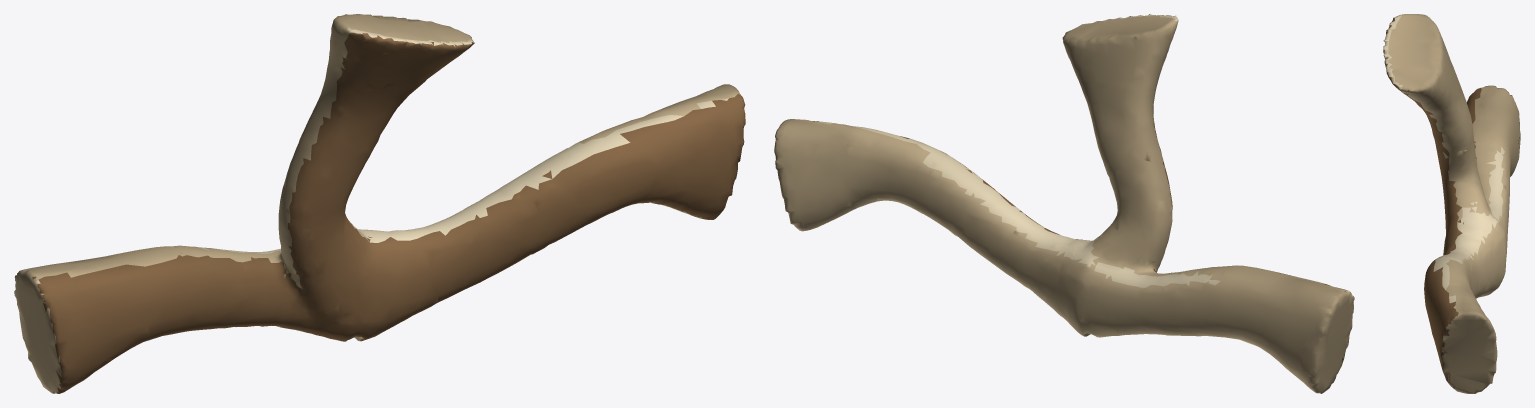
The model's file is cortical-web.glb.
3 views of the same model, side by side, from view 1: azimuth 30°, elevation 25°; view 2: azimuth 150°, elevation 25°; view 3: azimuth 270°, elevation 25° (orthographic). The views are drawn at different scales.
Visible parts, largest first — view 1: cortical_web__fused_unequal_cortical_plates; view 2: cortical_web__fused_unequal_cortical_plates; view 3: cortical_web__fused_unequal_cortical_plates.
Part boxes in pixels (x1,y1,x2,y2): cortical_web__fused_unequal_cortical_plates: (14,14,745,393); cortical_web__fused_unequal_cortical_plates: (774,14,1354,393); cortical_web__fused_unequal_cortical_plates: (1383,14,1520,393).
Size of the model in its own units: 143 by 70.28 by 33.26.
